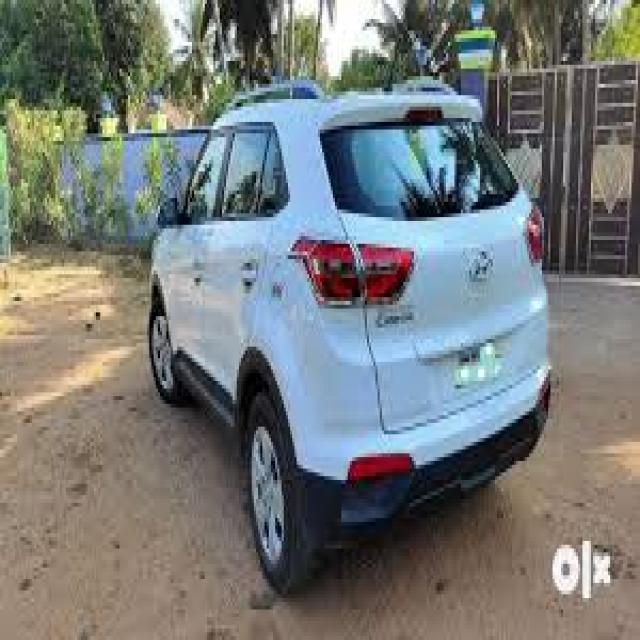cars: (142, 60, 560, 612)
